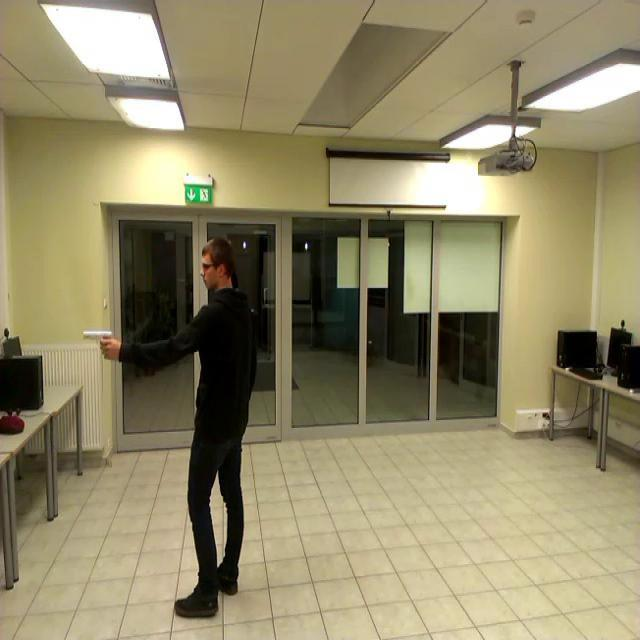weapon: (77, 326, 114, 364)
